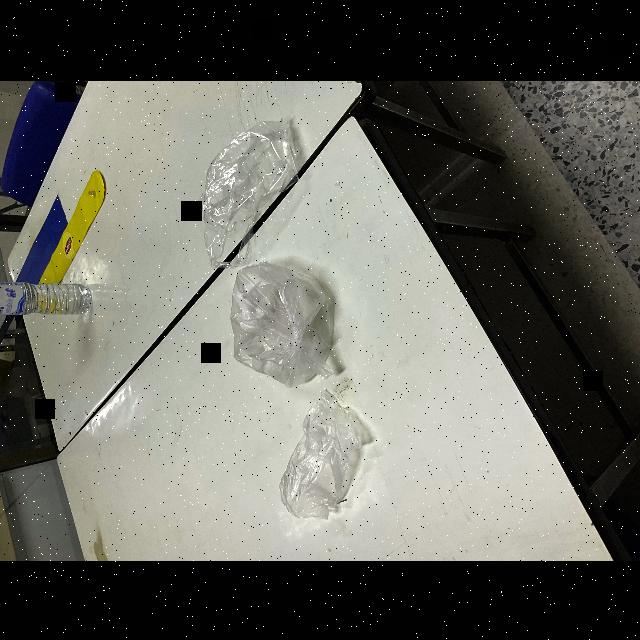plastic_bag: (217, 257, 345, 389), (270, 383, 376, 539), (195, 120, 288, 240)
plastic_bottle: (0, 276, 90, 320)
